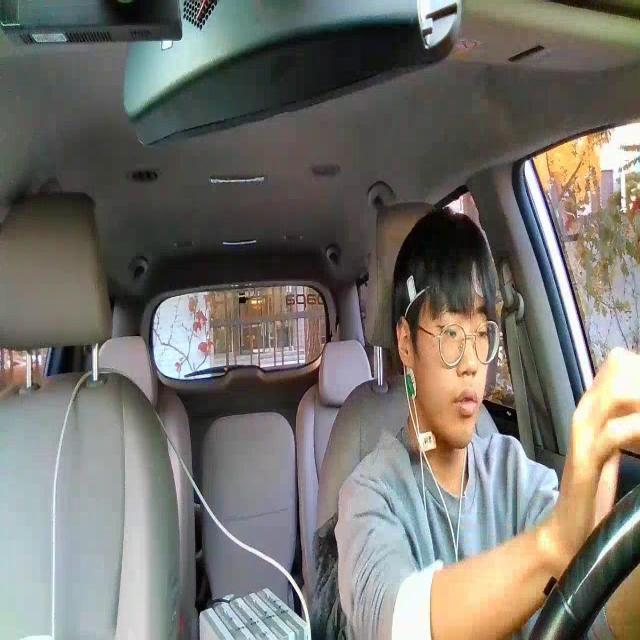Attentive: (394, 207, 501, 450)
